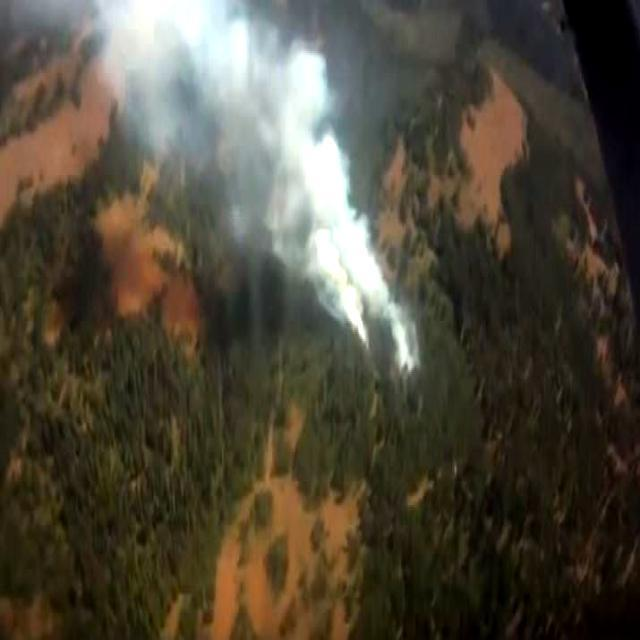Smoke: (120, 3, 370, 309), (328, 206, 406, 359)
